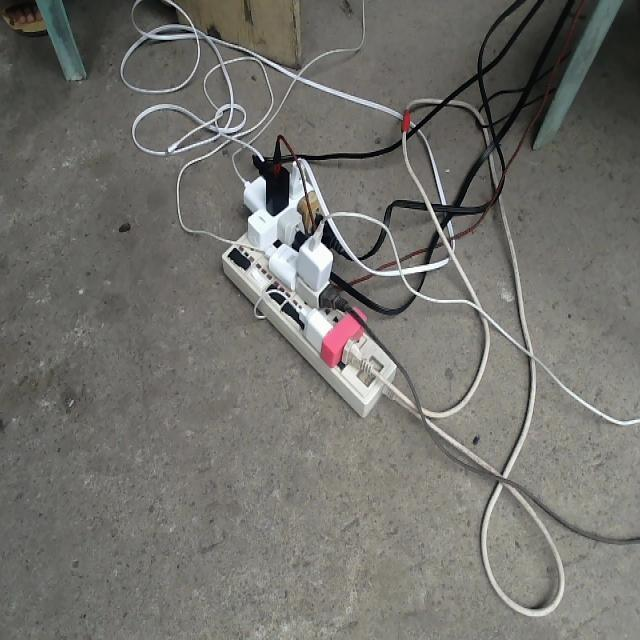-: (219, 137, 395, 415)
